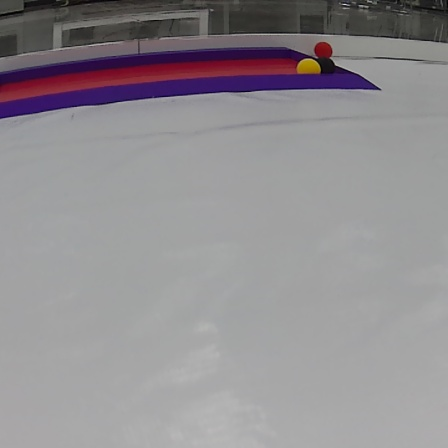black: (321, 57, 335, 72)
red: (315, 39, 334, 55)
red_aim: (0, 47, 385, 117)
yellow: (297, 55, 319, 74)
